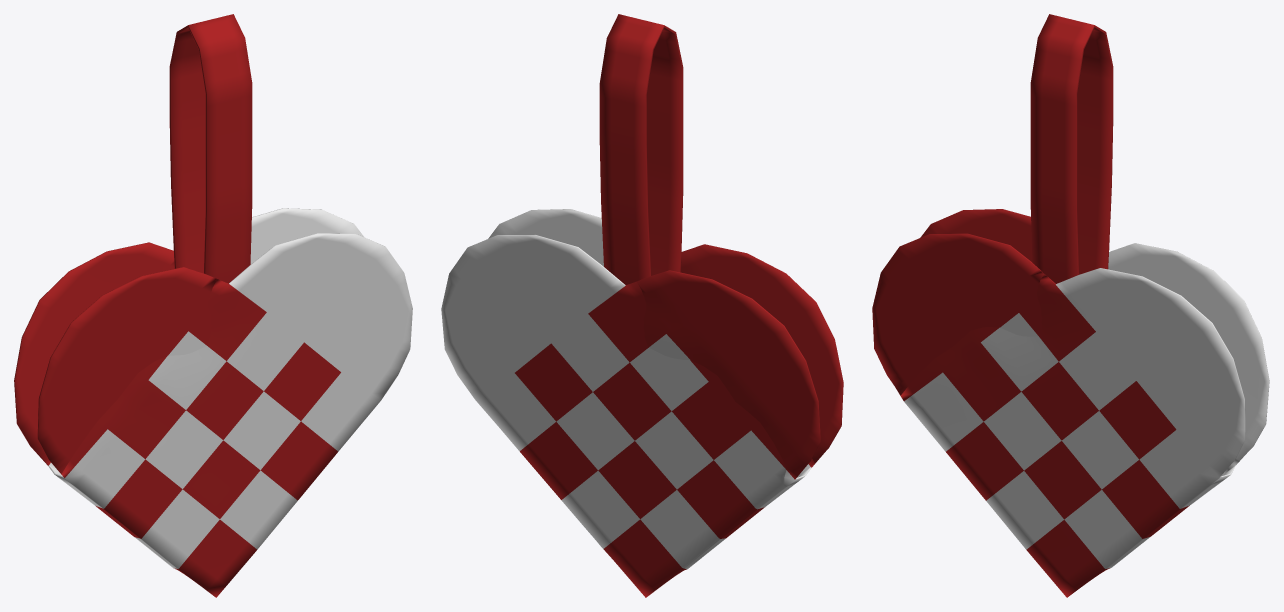
Rendered from Heart.fbx.
3 renders of one model, left to right at view 1: azimuth 30°, elevation 25°; view 2: azimuth 150°, elevation 25°; view 3: azimuth 330°, elevation 25°, orthographic.
Parts seen in each view (by area): view 1: HeartMain; view 2: HeartMain; view 3: HeartMain.
Part boxes in pixels (x1,y1,x2,y2): HeartMain: [14, 14, 412, 597]; HeartMain: [441, 14, 843, 597]; HeartMain: [872, 14, 1269, 597].
Bounding box in the file's own units: 1.4 × 2.06 × 0.2443.
